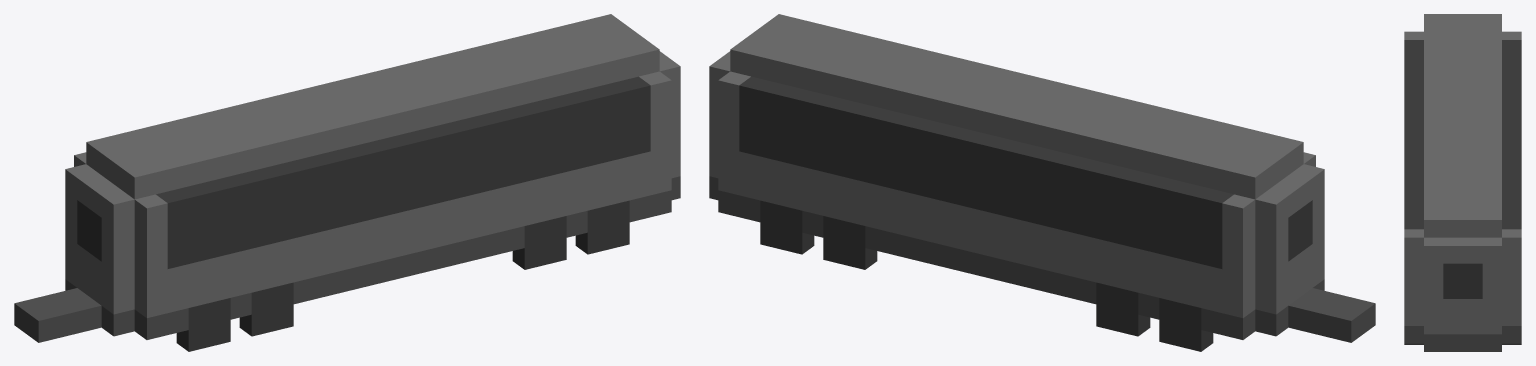
The model's file is train-trailer-v1-grey.gltf.
3 views of the same model, side by side, from view 1: azimuth 30°, elevation 25°; view 2: azimuth 150°, elevation 25°; view 3: azimuth 270°, elevation 25° (orthographic). The views are drawn at different scales.
Visible parts, largest first — view 1: model, wheels; view 2: model, wheels; view 3: model.
Part boxes in pixels (box(x1,y1,x2,y2)): model: box(14, 14, 680, 342); wheels: box(176, 200, 629, 351); model: box(709, 14, 1375, 342); wheels: box(760, 200, 1213, 351); model: box(1404, 14, 1521, 351).
Bounding box in the file's own units: 3 × 0.8 × 0.6.
Materials: 2 (2 with a texture image).
